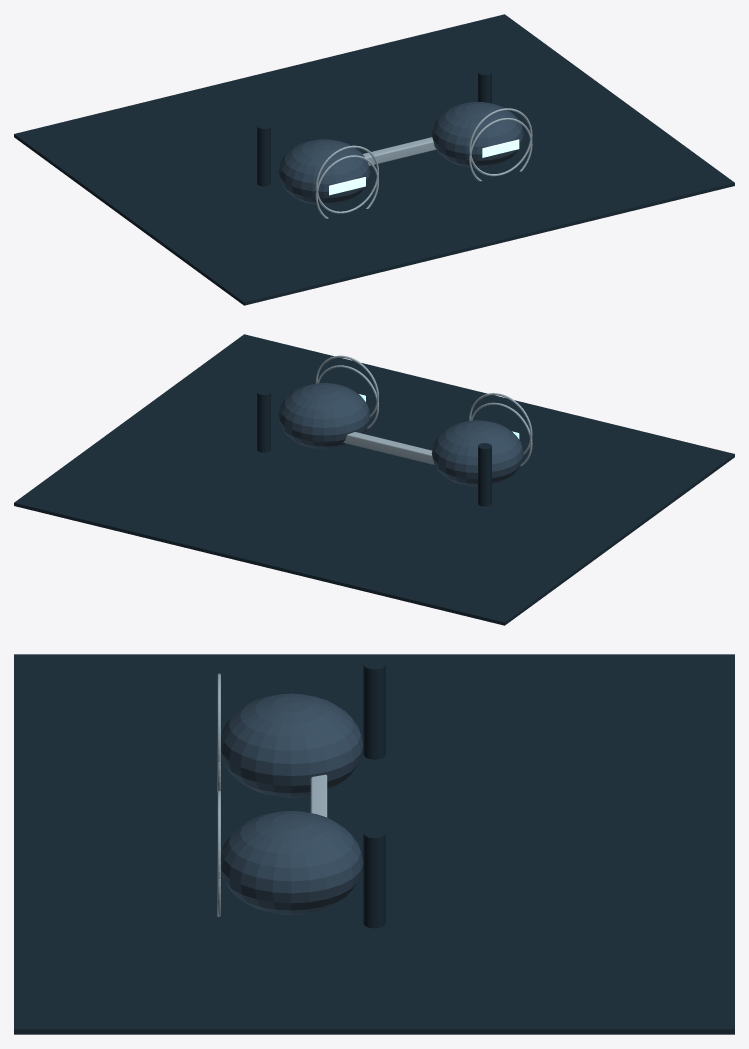
File: abyss-base-v1.glb
3 views of the same model, one above another, from view 1: azimuth 30°, elevation 25°; view 2: azimuth 150°, elevation 25°; view 3: azimuth 270°, elevation 25° (orthographic). The views are drawn at different scales.
Visible parts, largest first — view 1: abyss-base recess, abyss-base alloy, abyss-base trim, abyss-base lighting; view 2: abyss-base recess, abyss-base alloy, abyss-base trim; view 3: abyss-base recess, abyss-base alloy, abyss-base trim.
Boxes of the visible parts, box(x1,y1,x2,y2) form: abyss-base recess: box(14, 14, 734, 305); abyss-base alloy: box(278, 102, 523, 205); abyss-base trim: box(315, 108, 532, 218); abyss-base lighting: box(329, 139, 519, 195); abyss-base recess: box(14, 334, 734, 625); abyss-base alloy: box(278, 383, 523, 486); abyss-base trim: box(315, 355, 532, 466); abyss-base recess: box(14, 654, 734, 1034); abyss-base alloy: box(221, 693, 363, 914); abyss-base trim: box(217, 673, 327, 916).
Size of the model in its own units: 160 by 23.64 by 130.
